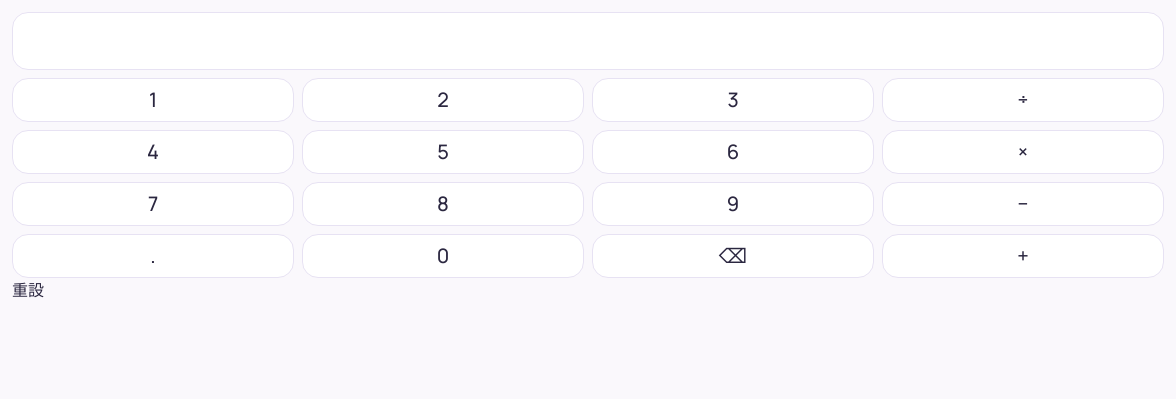
NumericKeypad › mode="amount" 計算機 › 刪除鍵刪掉運算子後回到純數字
The width and height of the screenshot is (1176, 399).
Click the button named "數字 1".
click(153, 100)  # box [12,78,294,122]
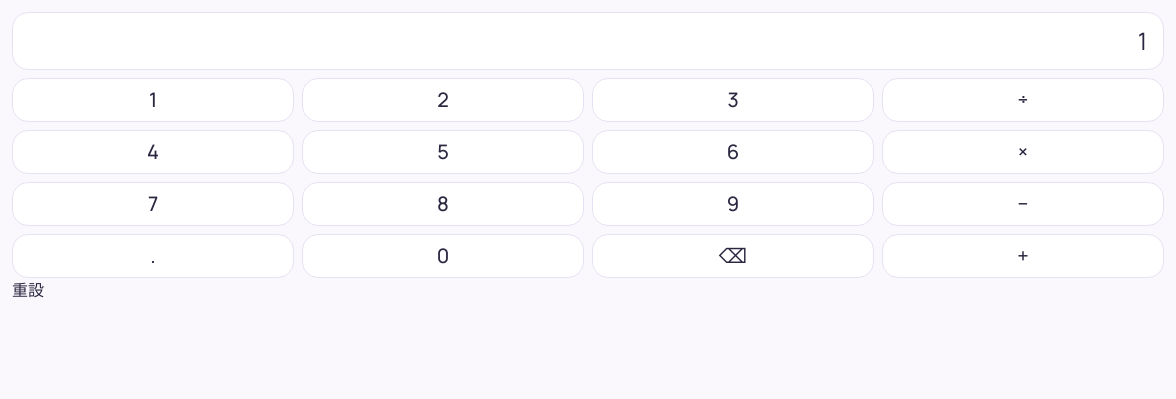
Click the button named "數字 2".
click(443, 100)  # box [302,78,584,122]
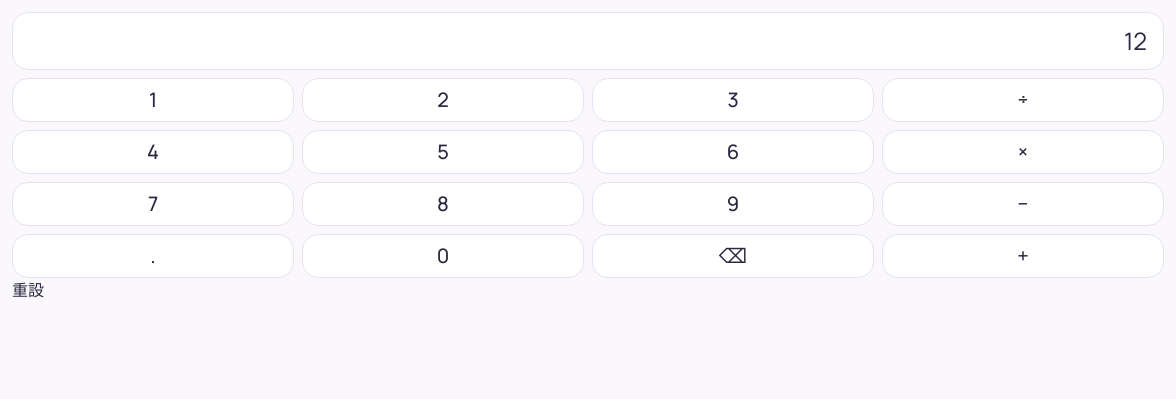
Click the button named "加".
click(1023, 256)  # box [882,234,1164,278]
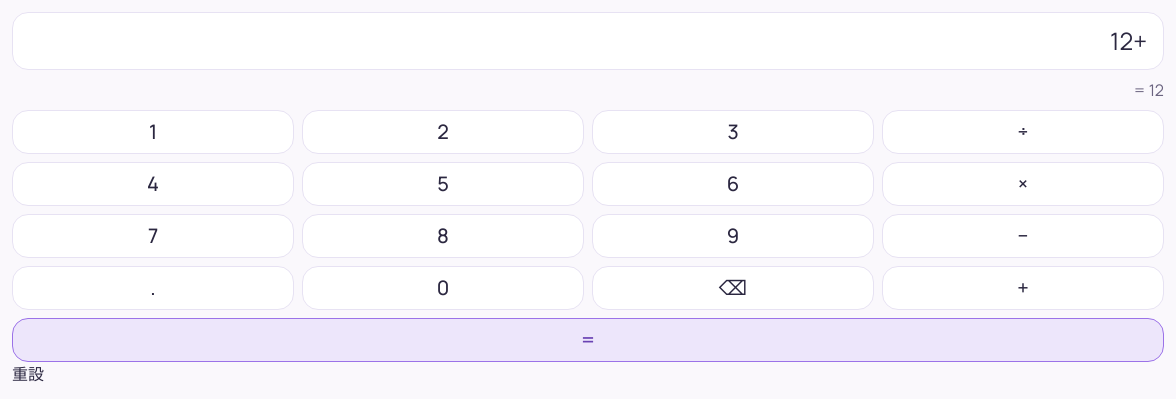
Click the button named "刪除".
click(733, 288)  # box [592,266,874,310]
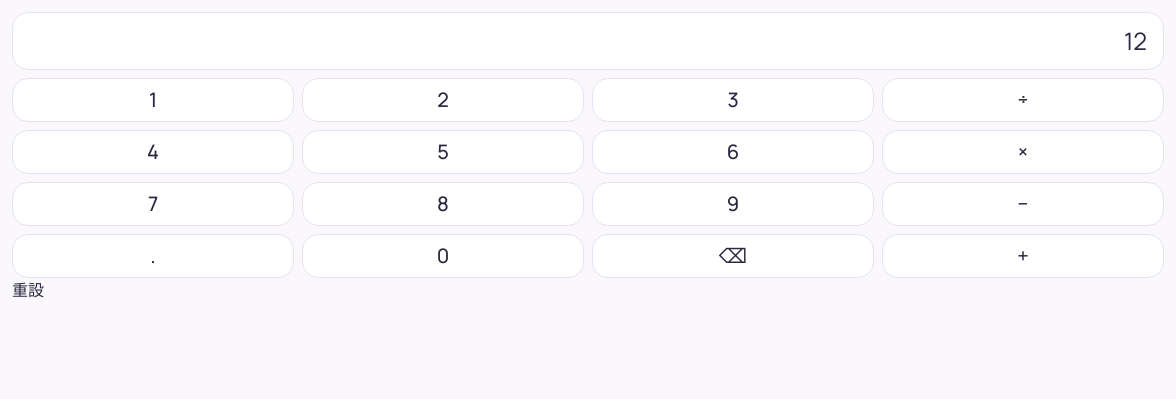
Now the field named "金額" holds "12", box [12,12,1164,70]
